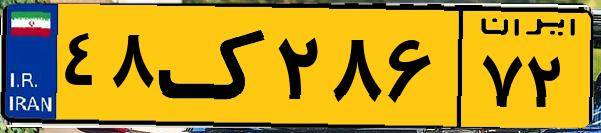2: (270, 28, 330, 110), (525, 38, 570, 115)
4: (57, 26, 110, 100)
6: (385, 28, 445, 110)
7: (475, 38, 525, 113)
8: (330, 28, 385, 110), (110, 28, 158, 98)
ک: (158, 12, 270, 120)
